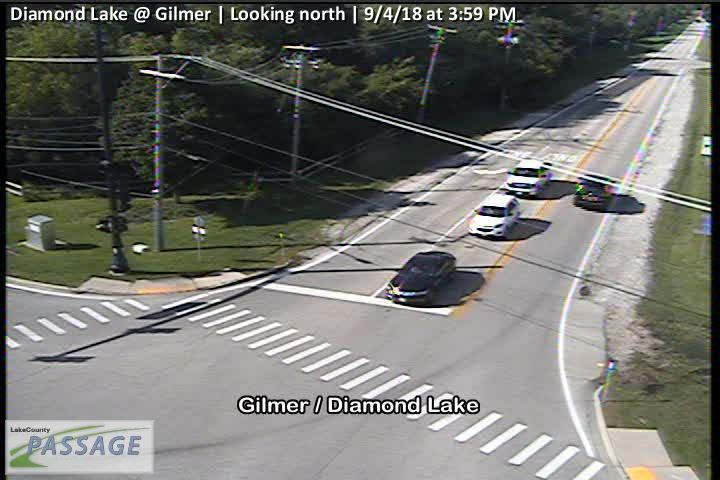SUV: (468, 193, 521, 240), (504, 159, 553, 198), (575, 175, 615, 210)
Sedan: (387, 251, 456, 307)
